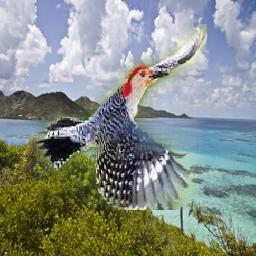Woodpecker: (37, 24, 208, 210)
